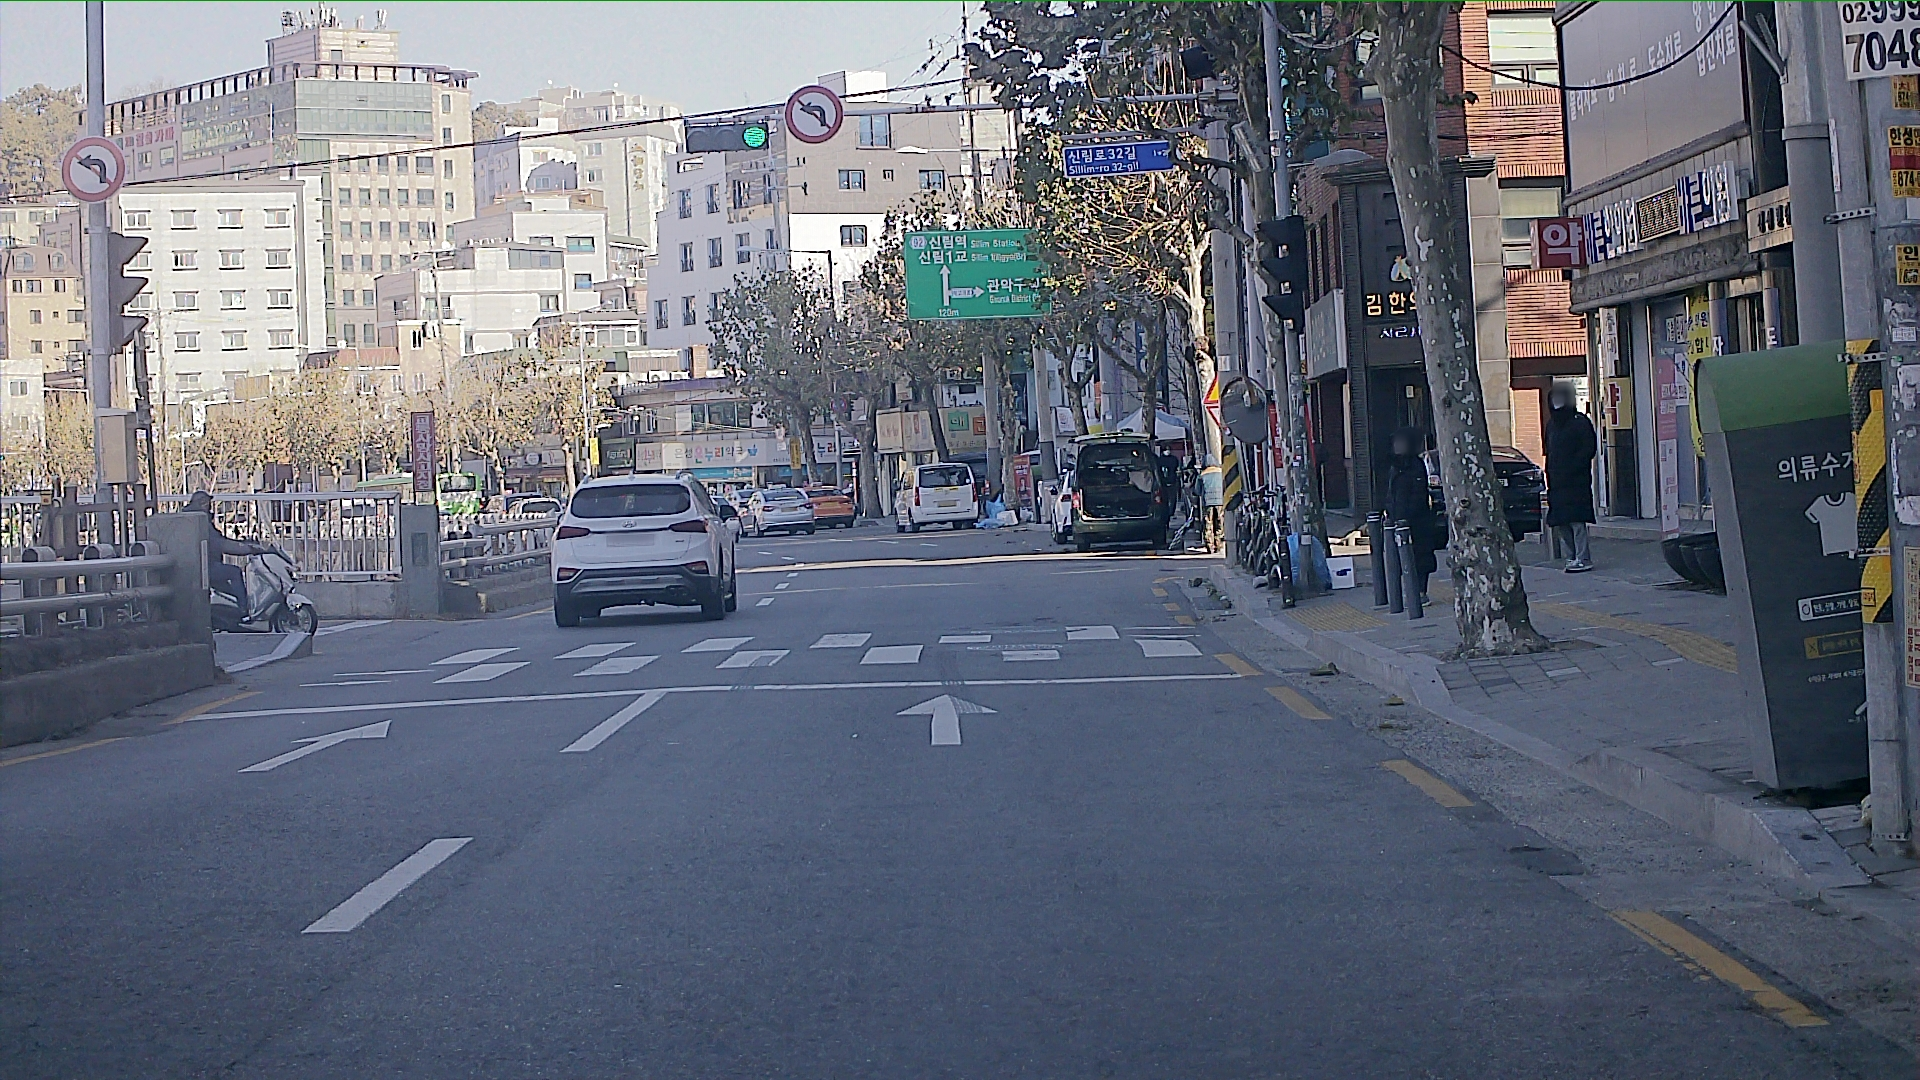trafficLight: (680, 120, 771, 154)
trafficSignCircle: (61, 135, 129, 202), (786, 84, 843, 145)
